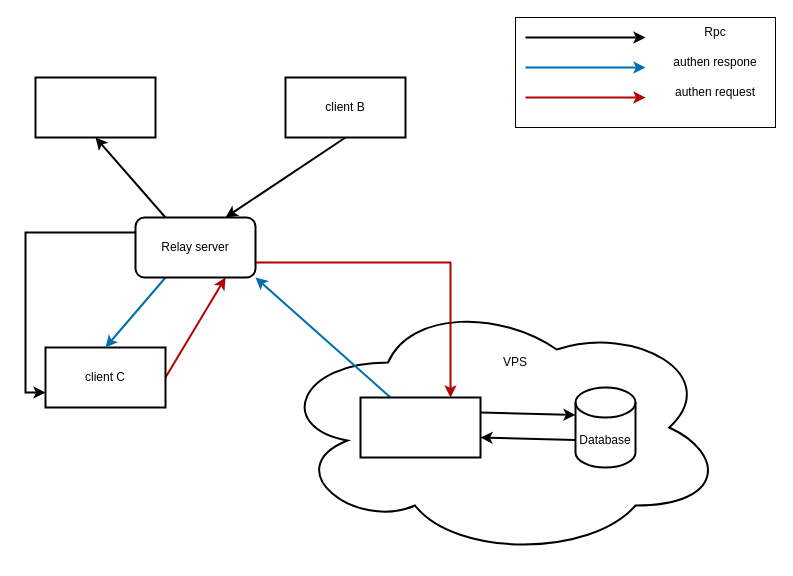
Image size: 793x576. Some labels were removed from this diagram. Here are the shapes that lost their labels. From the top down, the centre of each, then its label:
At point 95,107: "client A (Host)".
At point 420,427: "authen server".
